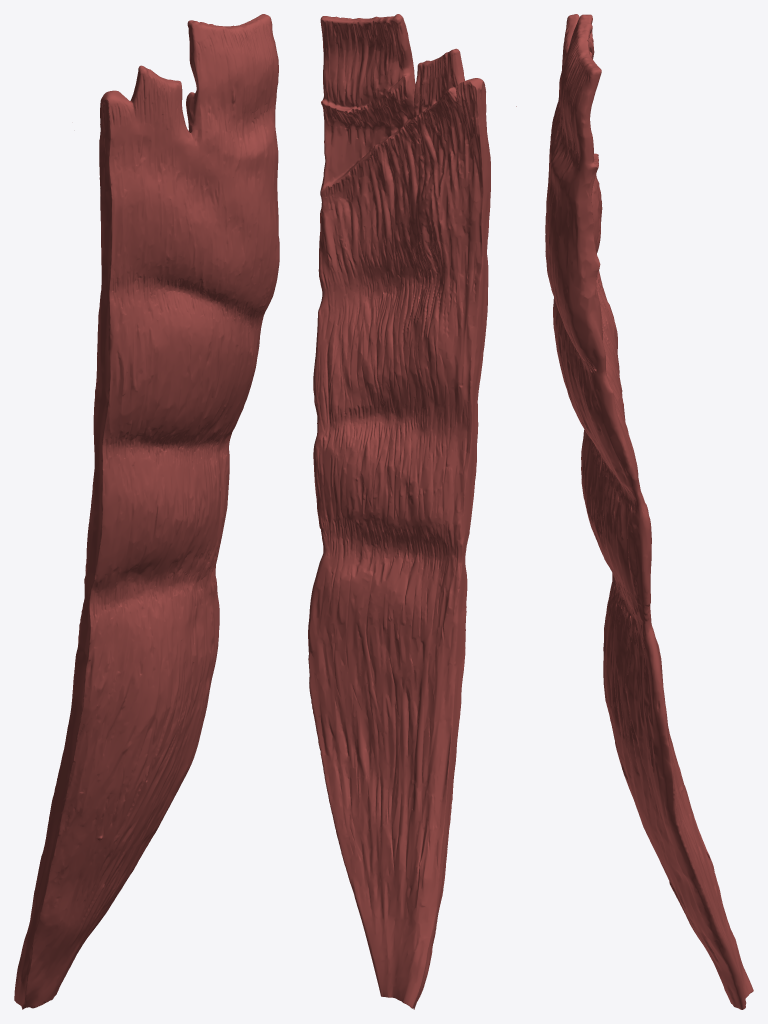
Rendered from FMA13378.glb.
3 renders of one model, left to right at view 1: azimuth 30°, elevation 25°; view 2: azimuth 150°, elevation 25°; view 3: azimuth 270°, elevation 25°, orthographic. The views are drawn at different scales.
Visible parts, largest first — view 1: FMA13378; view 2: FMA13378; view 3: FMA13378.
Part boxes in pixels (x1,y1,x2,y2): FMA13378: (14,14,279,1009); FMA13378: (308,14,516,1009); FMA13378: (545,14,753,1009).
Bounding box in the file's own units: 0.0851 × 0.3954 × 0.0723.
